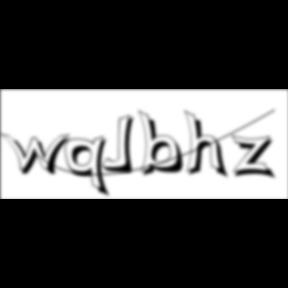J: (102, 114, 140, 176)
b: (138, 109, 190, 179)
h: (184, 108, 232, 182)
q: (66, 135, 114, 200)
w: (0, 132, 78, 178)
z: (230, 134, 280, 182)
